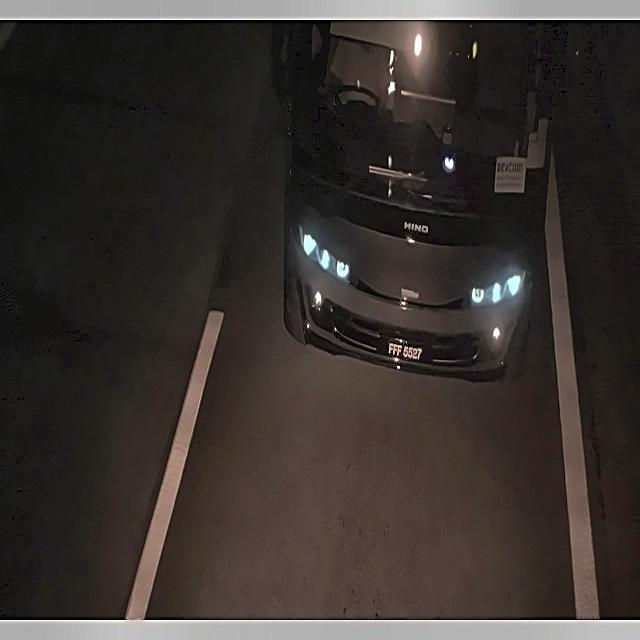car: (377, 331, 434, 372)
